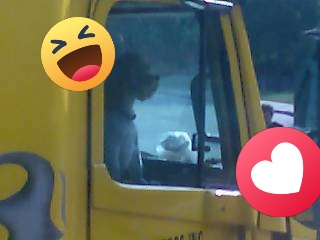haha: (41, 17, 115, 91)
love: (236, 127, 320, 217)
